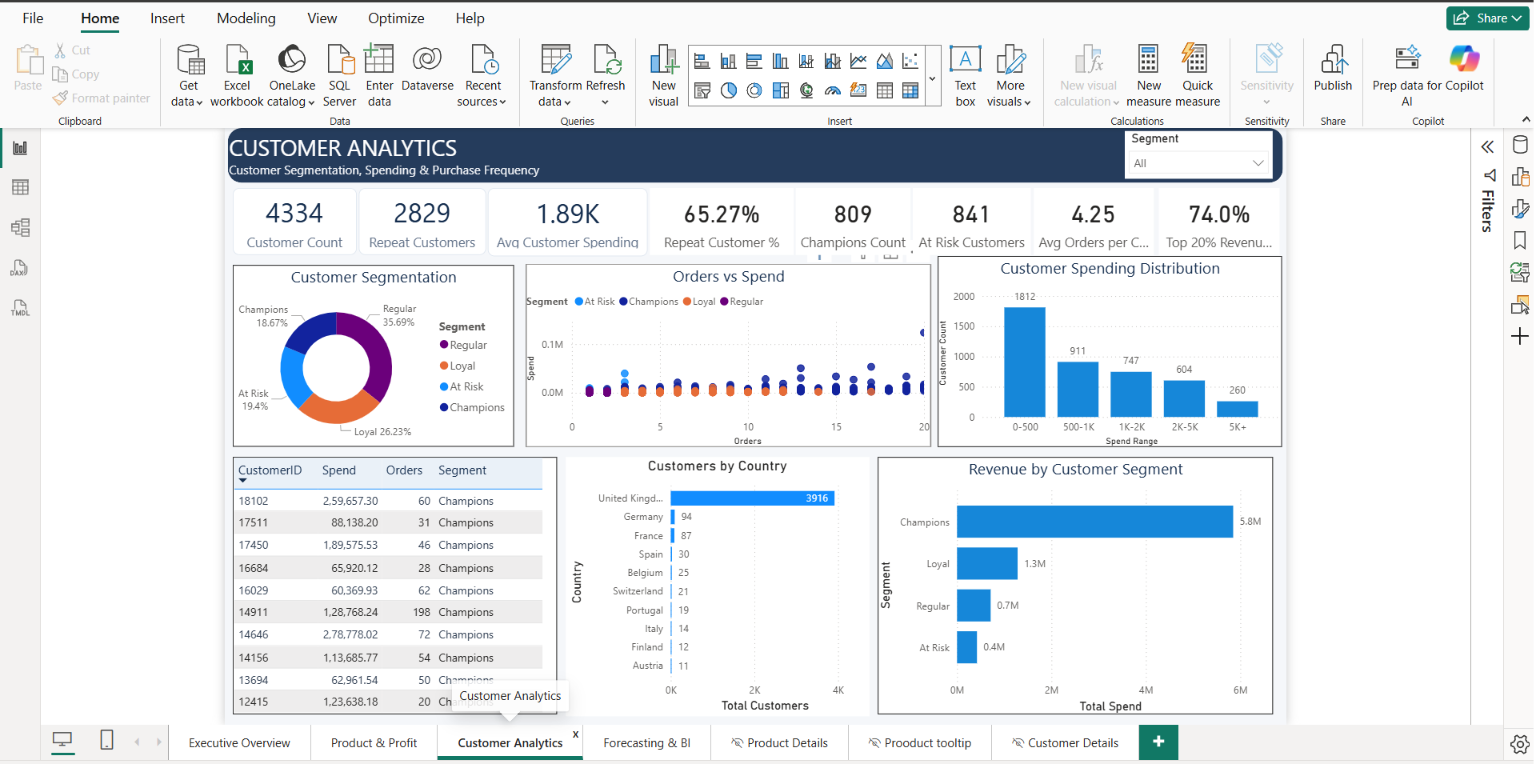

The dashboard page shown, as its layout file describes it:
{"tool":"powerbi","page":{"name":"Customer Analytics","canvas":[1280,720],"ordinal":2},"visuals":[{"type":"card","fields":{"Values":["CustomerSummary.Customer Count"]},"box":[9.7,72.4,149.6,80.8],"z":0},{"type":"card","fields":{"Values":["CustomerSummary.Repeat Customers"]},"box":[161.7,72.4,153.2,80.8],"z":1000},{"type":"card","fields":{"Values":["CustomerSummary.Avg Customer Spending"]},"box":[317.3,72.4,193,82],"z":2000},{"type":"donutChart","title":"Customer Segmentation","fields":{"Category":["CustomerSummary.Segment"],"Y":["CustomerSummary.Customer Count"]},"box":[9.7,165.3,339,219.6],"z":3000},{"type":"tableEx","title":"Top 10 High-Value Customers","fields":{"Values":["CustomerSummary.CustomerID","CustomerSummary.Spend","CustomerSummary.Orders","CustomerSummary.Segment"]},"box":[9.7,396.9,390.9,310.1],"z":4000},{"type":"scatterChart","title":"Orders vs Spend","fields":{"Series":["CustomerSummary.Segment"],"X":["CustomerSummary.Orders"],"Y":["CustomerSummary.Spend"]},"box":[363.1,164.1,488.6,220.8],"z":5000},{"type":"clusteredColumnChart","title":"Customer Spending Distribution","fields":{"Category":["CustomerSummary.Spend Range"],"Y":["CustomerSummary.Customer Count"]},"box":[860.2,154.4,415,230.4],"z":6000},{"type":"clusteredBarChart","title":"Revenue by Customer Segment","fields":{"Category":["CustomerSummary.Segment"],"Y":["Sum(CustomerSummary.Spend)"]},"box":[787.8,396.9,476.5,310.1],"z":7000},{"type":"shape","box":[3.7,0,1273,66],"z":8000},{"type":"textbox","box":[0,0,464.5,66.6],"z":9000},{"type":"card","fields":{"Values":["CustomerSummary.Repeat Customer %"]},"box":[512.7,72.4,173.7,80.8],"z":10000},{"type":"card","fields":{"Values":["CustomerSummary.Champions Count"]},"box":[688.9,72.4,138.7,80.8],"z":11000},{"type":"card","fields":{"Values":["CustomerSummary.At Risk Customers"]},"box":[830,72.4,142.4,80.8],"z":12000},{"type":"card","fields":{"Values":["CustomerSummary.Avg Orders per Customer"]},"box":[976,72.4,144.8,80.8],"z":13000},{"type":"card","fields":{"Values":["CustomerSummary.Top 20% Revenue Share"]},"box":[1126.8,72.4,146,80.8],"z":14000},{"type":"clusteredBarChart","title":"Customers by Country","fields":{"Category":["output.Country"],"Y":["output.Total Customers"]},"box":[411.2,396.8,366.5,313.1],"z":15000},{"type":"slicer","fields":{"Values":["CustomerSummary.Segment"]},"box":[1085.8,3.6,178.6,57.9],"z":16000}]}

Visuals, with their boxes on the page's 1280x720 design canvas (x1, y1, x2, y2). These are canvas units, not pixel positions in the 1534x764 screenshot, which may show the page scaled, cropped or inside an application window:
card - CustomerSummary.Customer Count: locate(10, 72, 159, 153)
card - CustomerSummary.Repeat Customers: locate(162, 72, 315, 153)
card - CustomerSummary.Avg Customer Spending: locate(317, 72, 510, 154)
"Customer Segmentation" donutChart: locate(10, 165, 349, 385)
"Top 10 High-Value Customers" tableEx: locate(10, 397, 401, 707)
"Orders vs Spend" scatterChart: locate(363, 164, 852, 385)
"Customer Spending Distribution" clusteredColumnChart: locate(860, 154, 1275, 385)
"Revenue by Customer Segment" clusteredBarChart: locate(788, 397, 1264, 707)
shape: locate(4, 0, 1277, 66)
textbox: locate(0, 0, 464, 67)
card - CustomerSummary.Repeat Customer %: locate(513, 72, 686, 153)
card - CustomerSummary.Champions Count: locate(689, 72, 828, 153)
card - CustomerSummary.At Risk Customers: locate(830, 72, 972, 153)
card - CustomerSummary.Avg Orders per Customer: locate(976, 72, 1121, 153)
card - CustomerSummary.Top 20% Revenue Share: locate(1127, 72, 1273, 153)
"Customers by Country" clusteredBarChart: locate(411, 397, 778, 710)
slicer - CustomerSummary.Segment: locate(1086, 4, 1264, 62)
